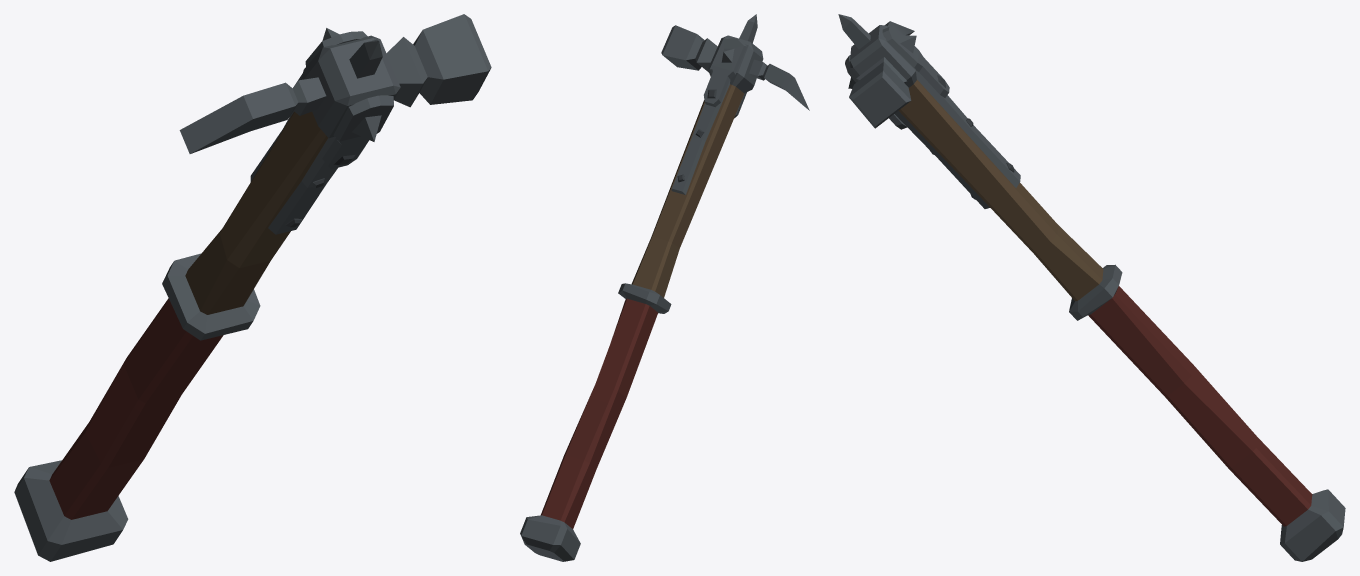
The model's file is fk-hammer-02.glb.
3 renders of one model, left to right at view 1: azimuth 30°, elevation 25°; view 2: azimuth 150°, elevation 25°; view 3: azimuth 270°, elevation 25°, orthographic. The views are drawn at different scales.
Parts seen in each view (by area): view 1: fk-hammer-02; view 2: fk-hammer-02; view 3: fk-hammer-02.
Part boxes in pixels (bbox=[...]): fk-hammer-02: bbox=[14, 14, 491, 561]; fk-hammer-02: bbox=[520, 14, 809, 561]; fk-hammer-02: bbox=[838, 14, 1345, 561].
Size of the model in its own units: 0.2257 by 0.6105 by 0.5318.
Materials: 1 (1 with a texture image).
